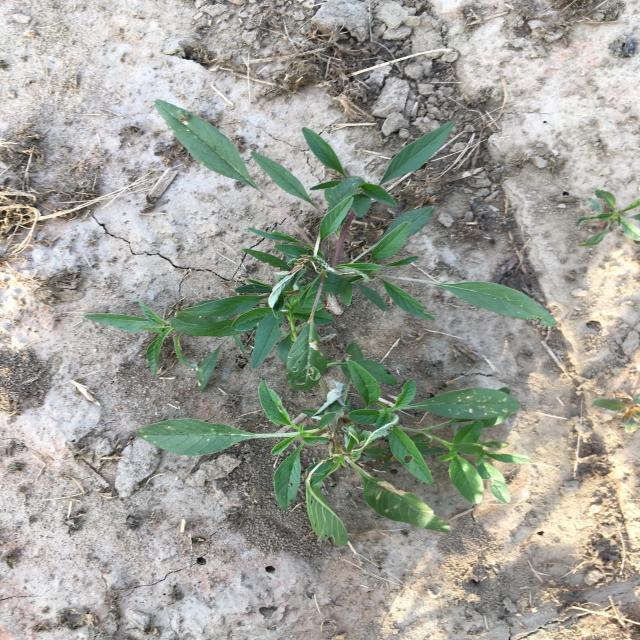Waterhemp: (84, 99, 558, 392), (137, 342, 532, 546), (576, 189, 640, 247), (591, 394, 640, 434)
